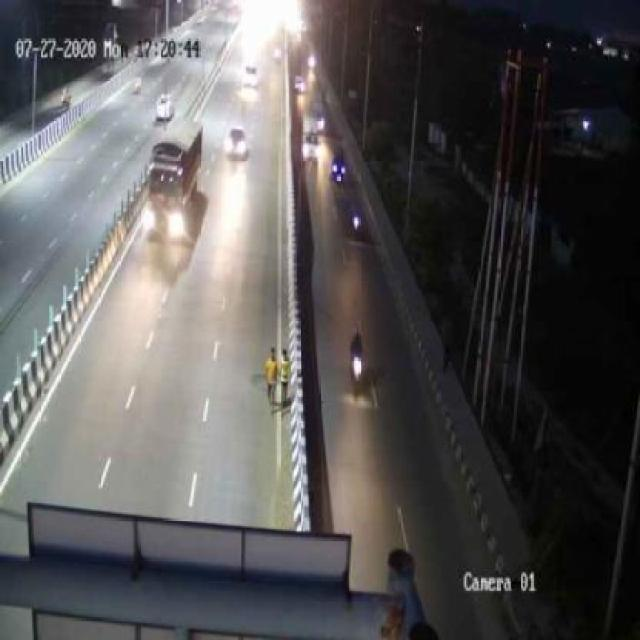car: (223, 125, 251, 160), (329, 155, 354, 188), (298, 132, 324, 162), (242, 63, 263, 91)
